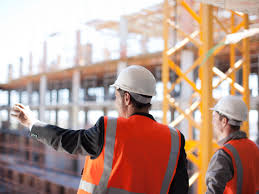hard hat: (108, 65, 157, 95), (210, 96, 249, 120)
high-vis: (84, 116, 181, 183), (217, 138, 259, 183)
